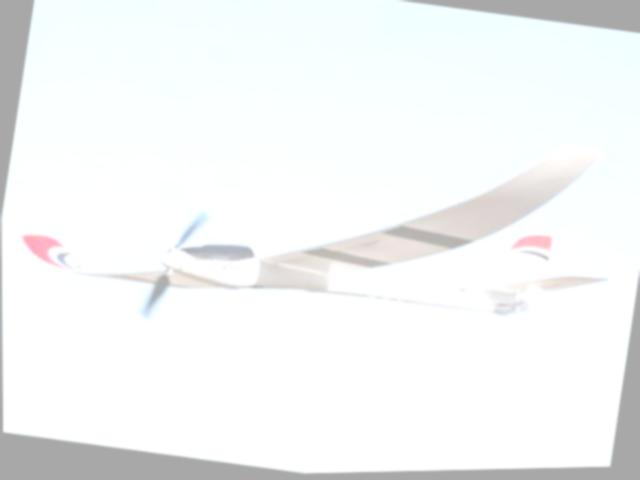uav: (12, 63, 628, 364)
